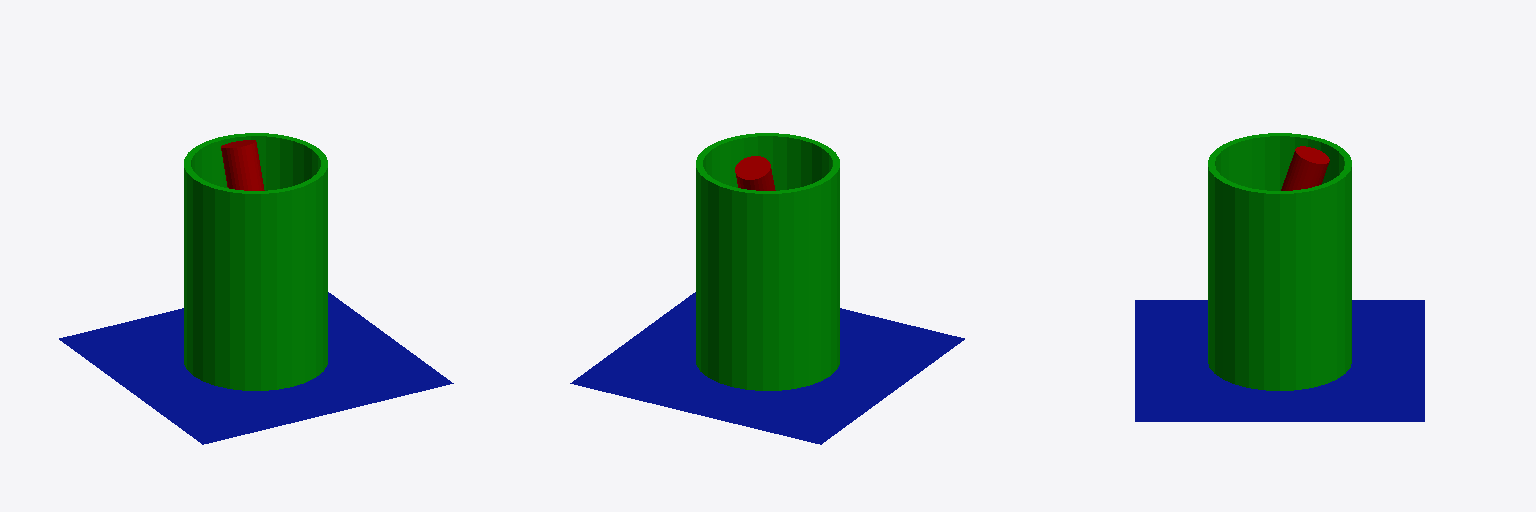
The model's file is glass_flat.obj.
The picture shows the model from 3 angles: view 1: azimuth 30°, elevation 25°; view 2: azimuth 150°, elevation 25°; view 3: azimuth 270°, elevation 25°; orthographic projection.
Parts seen in each view (by area): view 1: Cylinder.001, Plane, Cylinder; view 2: Cylinder.001, Plane, Cylinder; view 3: Cylinder.001, Plane, Cylinder.
Part boxes in pixels (bbox=[...]): Cylinder.001: bbox=[184, 133, 327, 390]; Plane: bbox=[59, 292, 453, 444]; Cylinder: bbox=[221, 140, 264, 190]; Cylinder.001: bbox=[696, 133, 839, 390]; Plane: bbox=[570, 292, 964, 444]; Cylinder: bbox=[735, 156, 775, 190]; Cylinder.001: bbox=[1208, 133, 1351, 390]; Plane: bbox=[1135, 300, 1424, 421]; Cylinder: bbox=[1281, 146, 1329, 190].
Size of the model in its own units: 4 by 3.2 by 4.